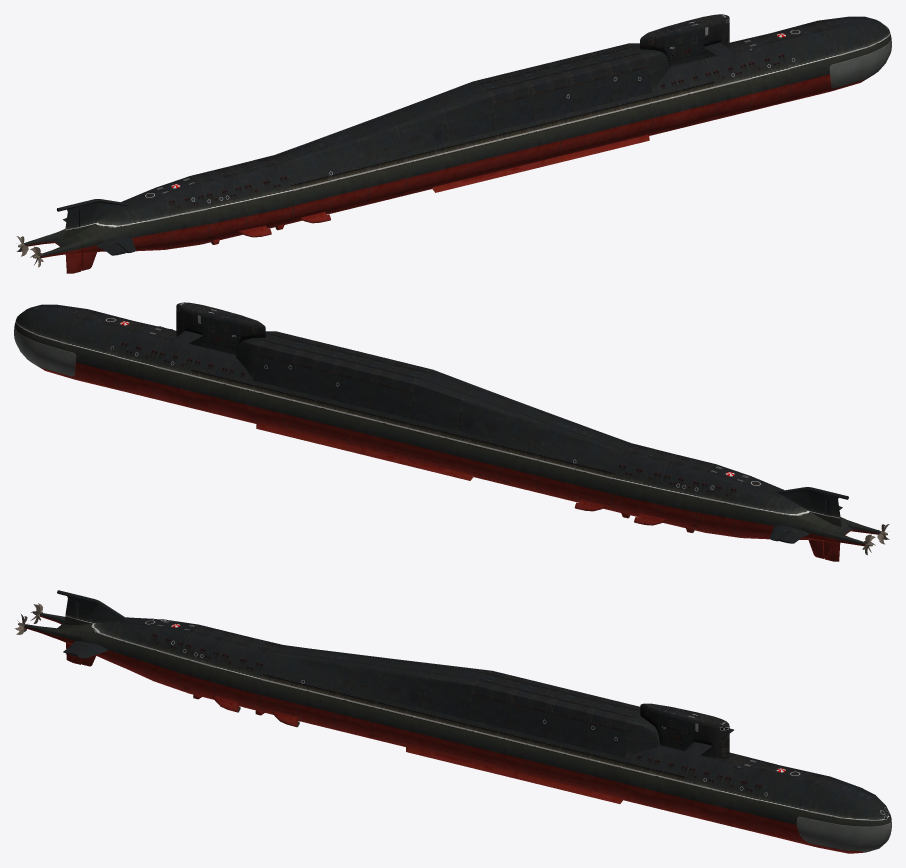
Rendered from us-delta.glb.
The picture shows the model from 3 angles, top to bottom: view 1: azimuth 30°, elevation 25°; view 2: azimuth 150°, elevation 25°; view 3: azimuth 330°, elevation 25°; orthographic projection.
Visible parts, largest first — view 1: root; view 2: root; view 3: root.
Part boxes in pixels (box(x1,y1,x2,y2)): root: box(16, 14, 891, 273); root: box(14, 302, 889, 561); root: box(14, 590, 891, 853).
Bounding box in the file's own units: 167 × 18.18 × 17.65.
Materials: 1 (1 with a texture image).
